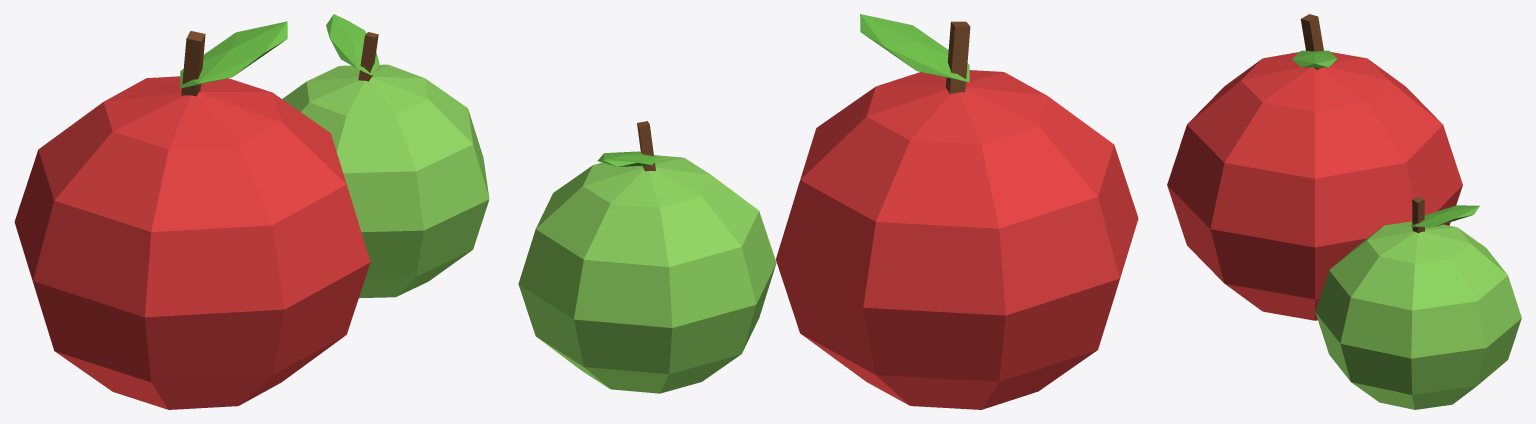
Rendered from Apples.fbx.
The picture shows the model from 3 angles, left to right: view 1: azimuth 30°, elevation 25°; view 2: azimuth 150°, elevation 25°; view 3: azimuth 270°, elevation 25°; orthographic projection. The views are drawn at different scales.
Parts seen in each view (by area): view 1: Apples; view 2: Apples; view 3: Apples.
Part boxes in pixels (x1,y1,x2,y2): Apples: [14, 14, 489, 409]; Apples: [518, 14, 1138, 409]; Apples: [1167, 14, 1521, 409].
Size of the model in its own units: 4.8 by 3.23 by 3.6.
1 material, 1 textured.
